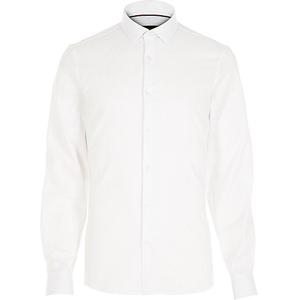F_shirt: (38, 2, 262, 292)
